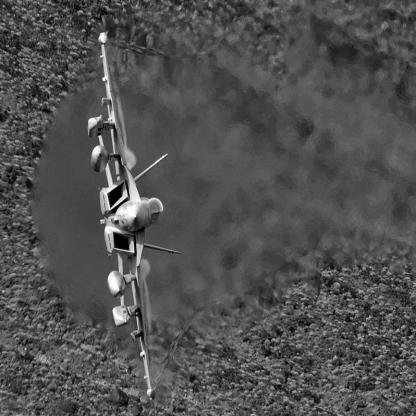F18: (89, 31, 183, 401)
